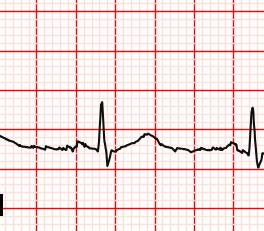LVH: (123, 130, 172, 153)
ST Depression: (93, 145, 120, 168)
